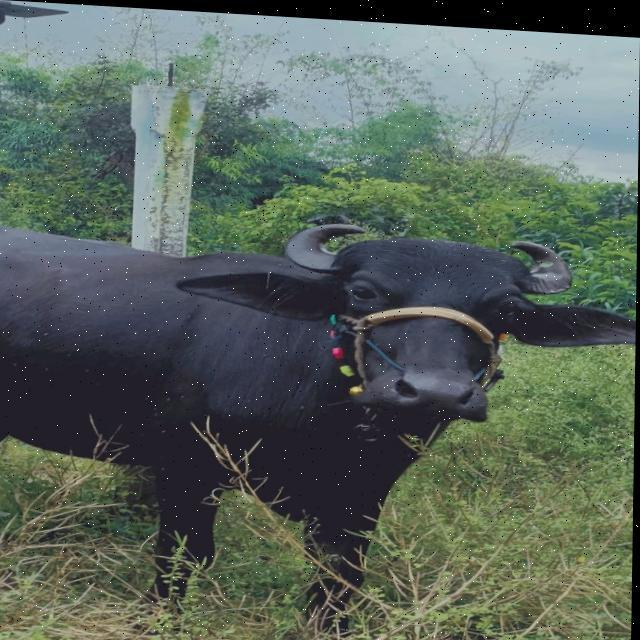Buffalo: (0, 202, 637, 640)
